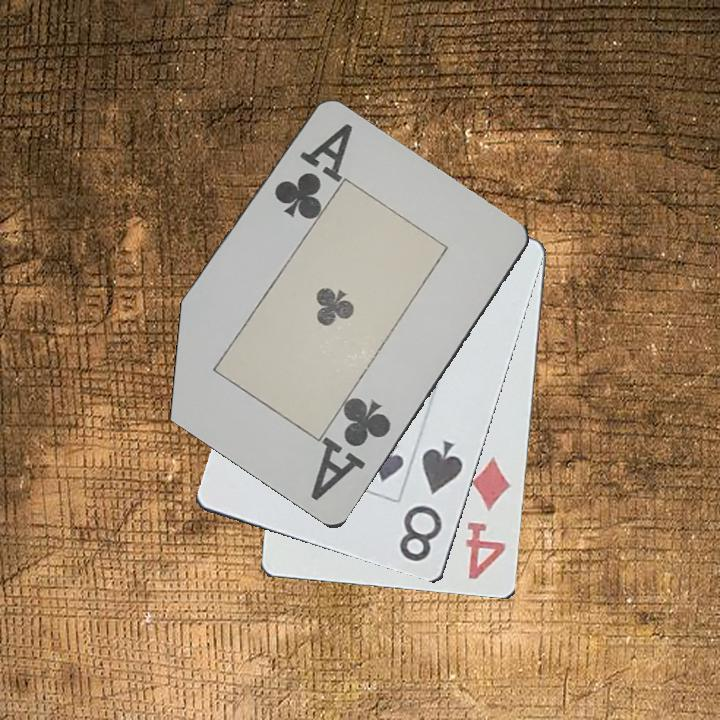4d: (462, 453, 515, 583)
8s: (396, 437, 467, 565)
Ac: (307, 394, 395, 505), (269, 120, 356, 223)
